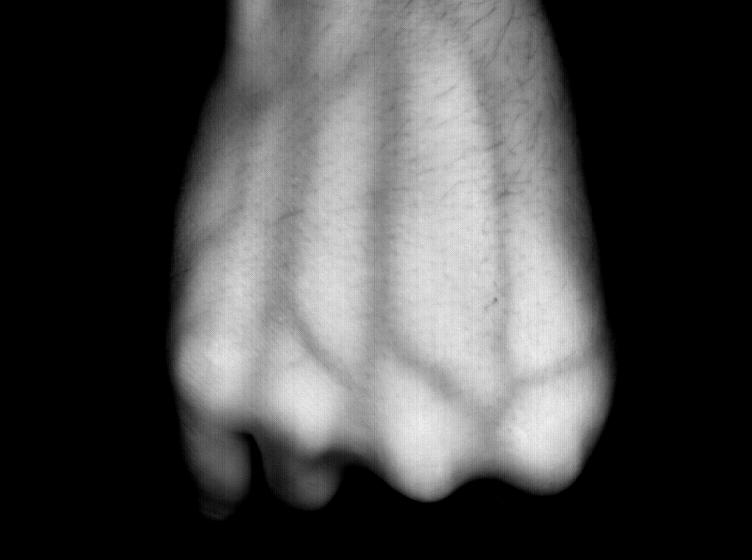Vein: (253, 61, 523, 426)
